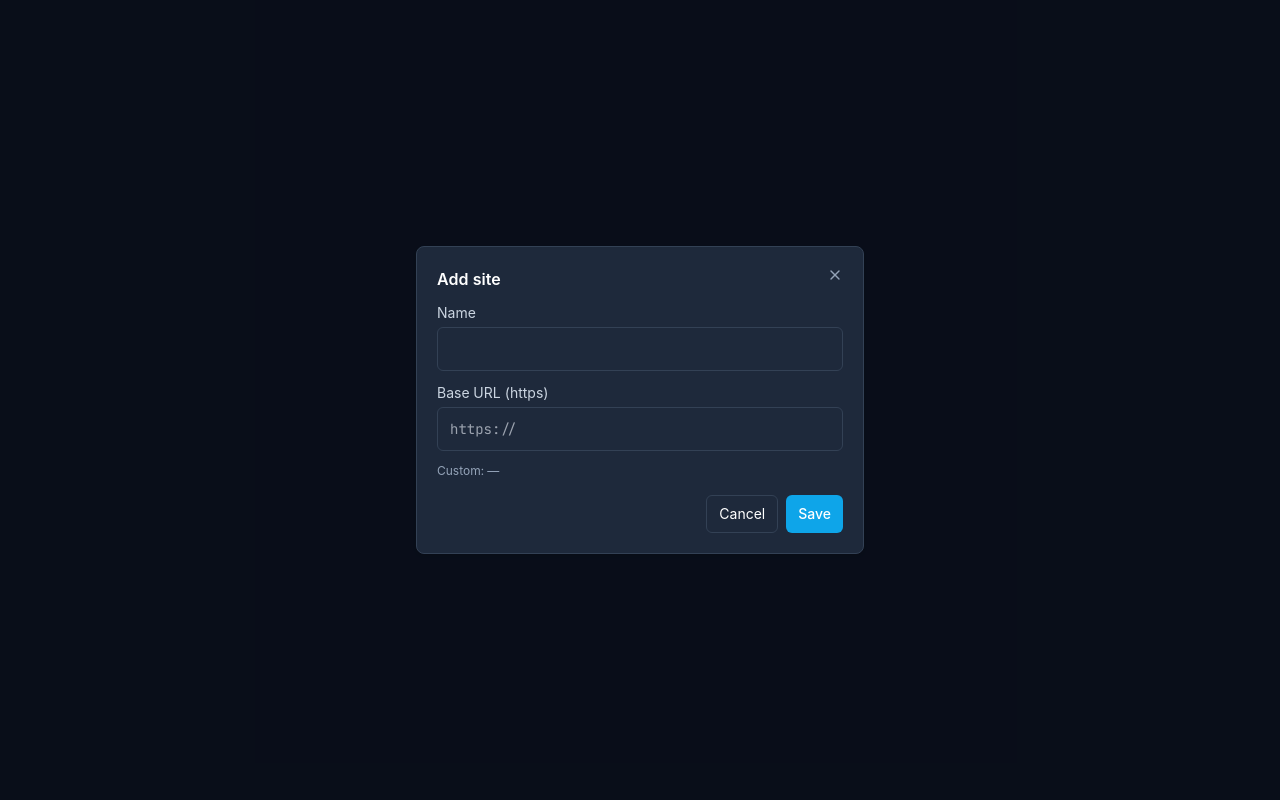
F81 AddSiteQuick per-field + cap › renders the name error inline under the name input
# empty name is rejected by validateNewSite
Type "https://example.com" into the field with test id "add-site-url" at coordinates (640, 429), box [437,407,843,451]
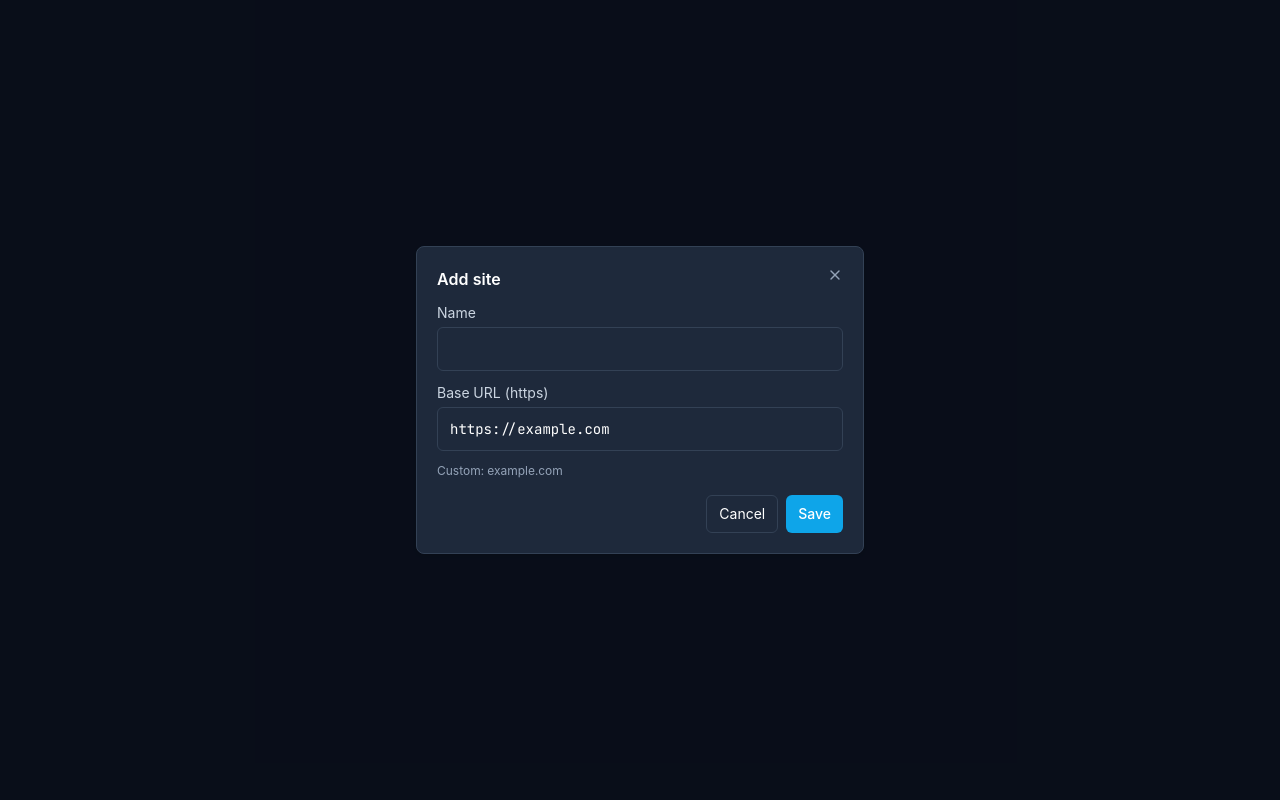
Click the button with test id "add-site-save" at coordinates (815, 514), box [786,495,843,533]
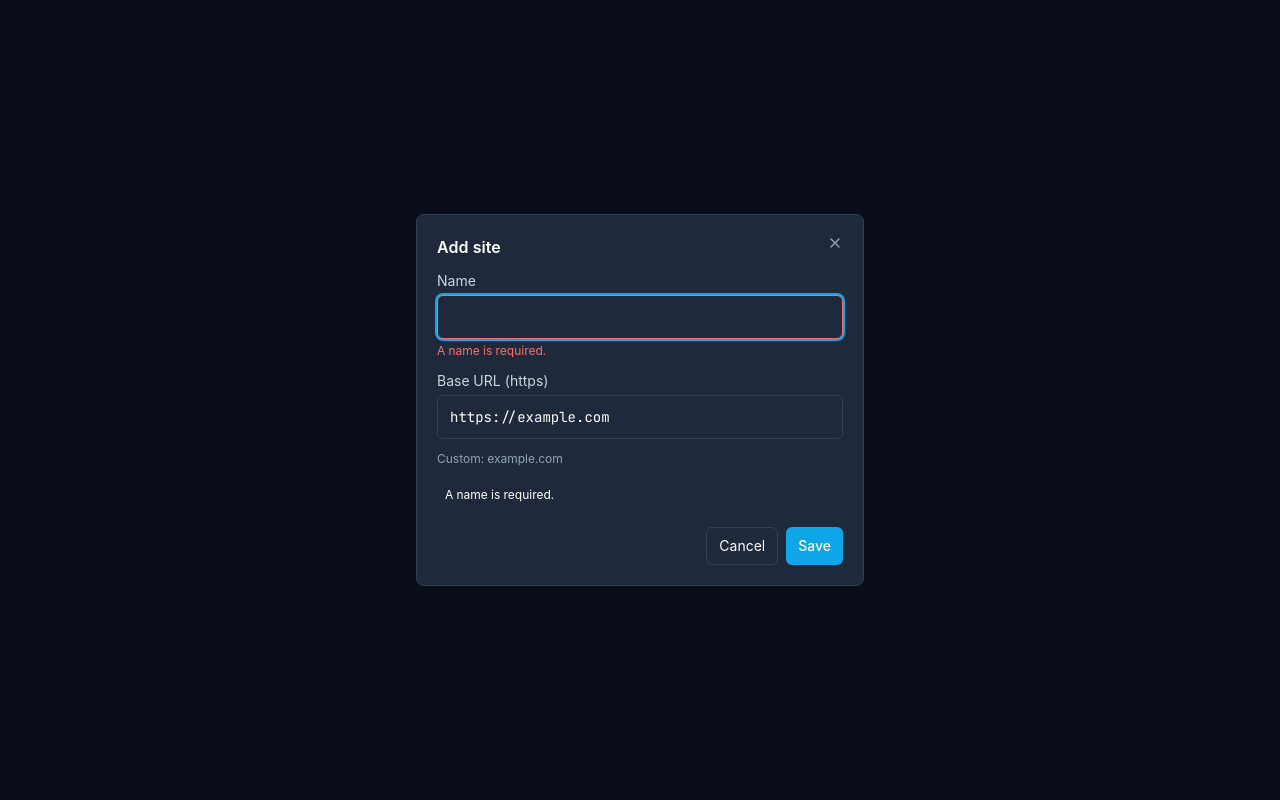
Check: the message with test id "add-site-name-error" is shown, box [437,343,546,358]
